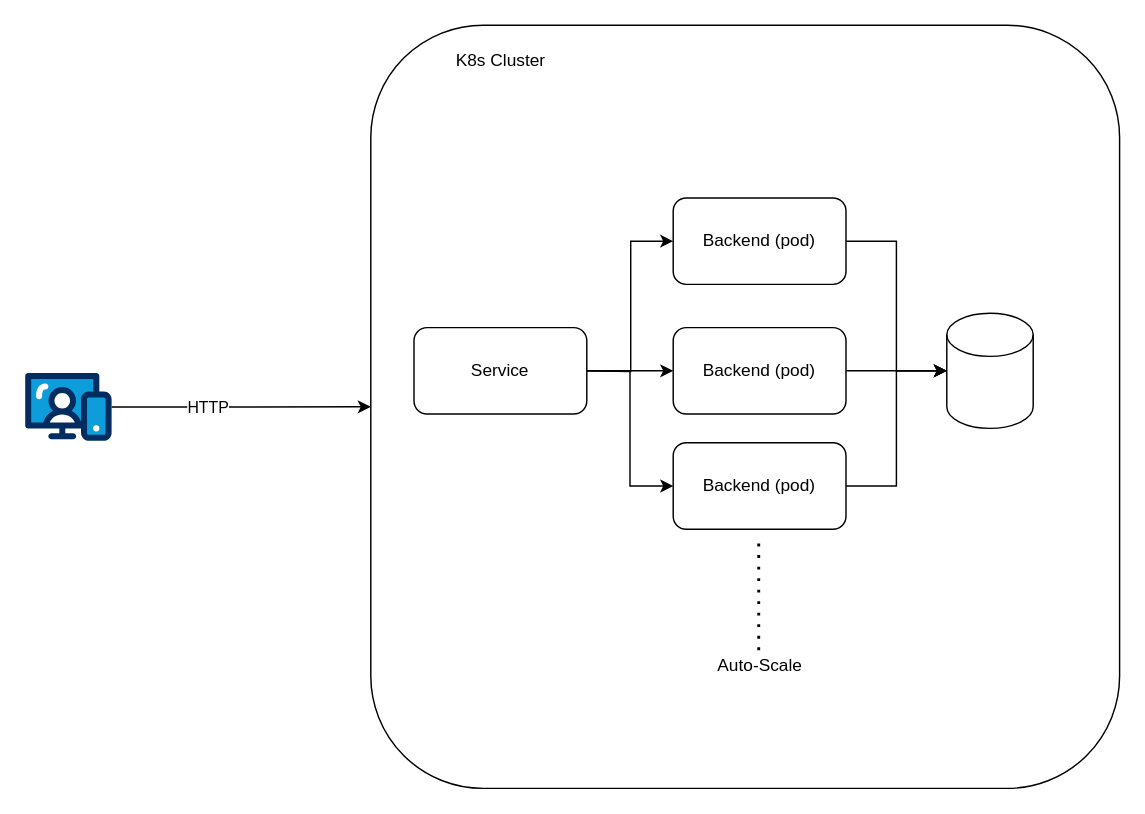
This 1145x814 diagram has some shape labels left out. Each missing label, with the box of its shape:
Client: (24, 371, 112, 441)
db: (945, 312, 1033, 428)
